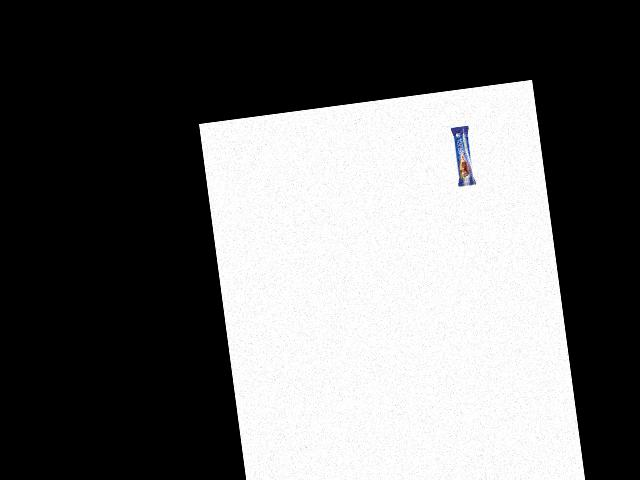chocolate: (444, 124, 478, 195)
